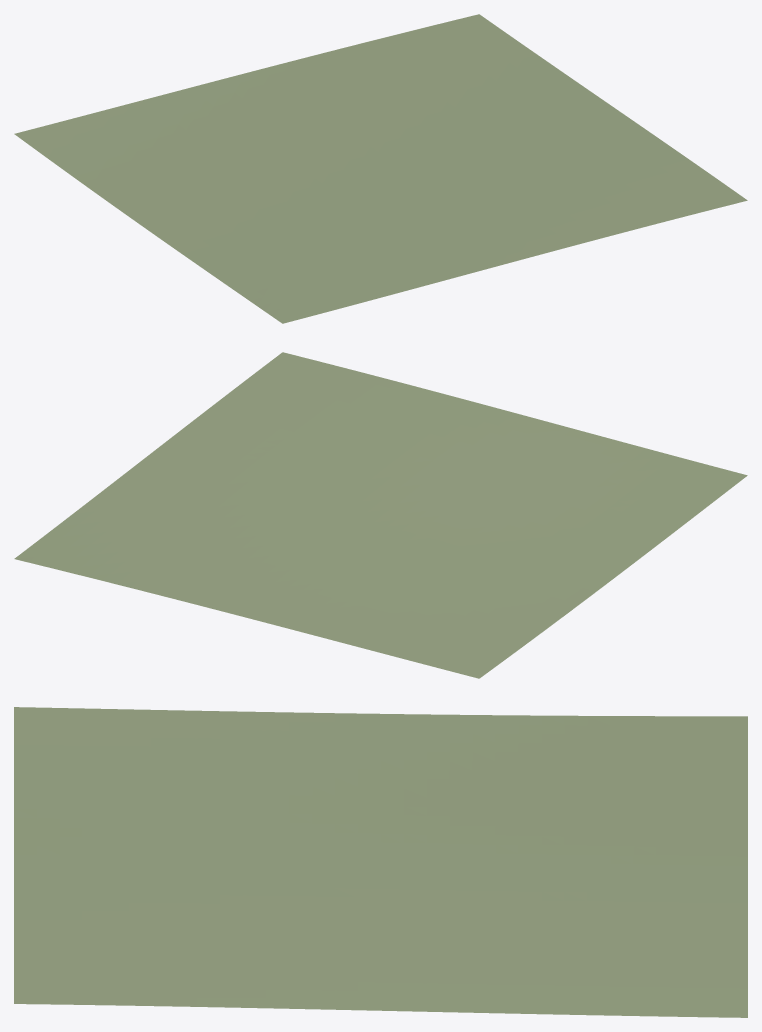
File: expanse-9-14.glb
3 views of the same model, one above another, from view 1: azimuth 30°, elevation 25°; view 2: azimuth 150°, elevation 25°; view 3: azimuth 270°, elevation 25° (orthographic). The views are drawn at different scales.
Visible parts, largest first — view 1: expanse-9-14; view 2: expanse-9-14; view 3: expanse-9-14.
Boxes of the visible parts, x1,y1,x2,y2 form: expanse-9-14: (14,14,747,323); expanse-9-14: (14,352,747,678); expanse-9-14: (14,707,747,1017).
Bounding box in the file's own units: 256 × 8.65 × 256.
